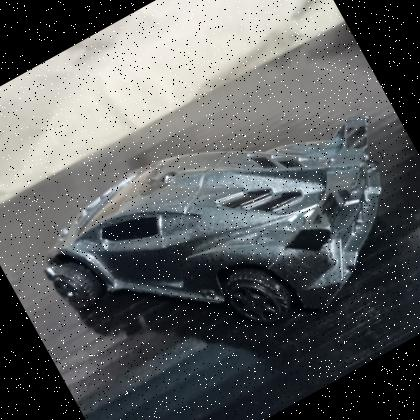Car: (44, 115, 383, 325)
